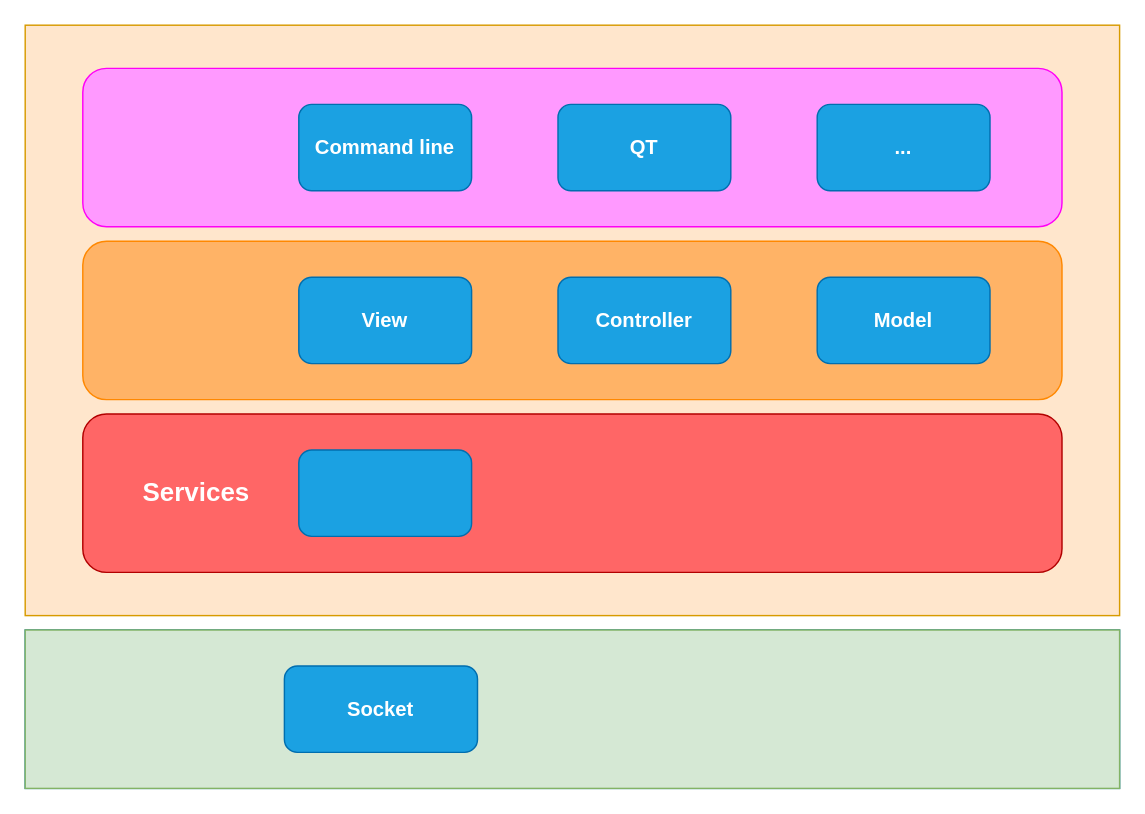
Some shapes in this 1145 by 814 pixel diagram are drawn without their labels. The shapes that lost their labels are listed below. From the top down, each one's box as (x1, y1, x2, y2) in pixels, then its label:
(81, 67, 1062, 227): UI
(81, 240, 1062, 400): MVC
(297, 449, 472, 536): Network
(24, 629, 1120, 788): System Lib
